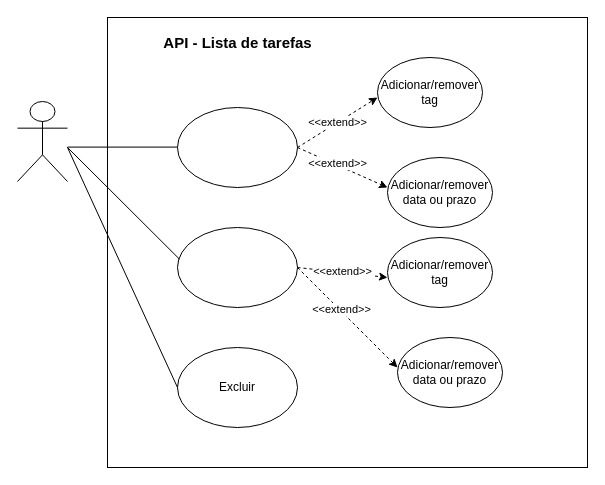
This 605x485 diagram has some shape labels left out. Each missing label, with the box of its shape:
Criar tarefa: (176, 106, 298, 188)
Editar tarefa: (176, 226, 298, 308)
Usuário: (16, 100, 68, 182)
